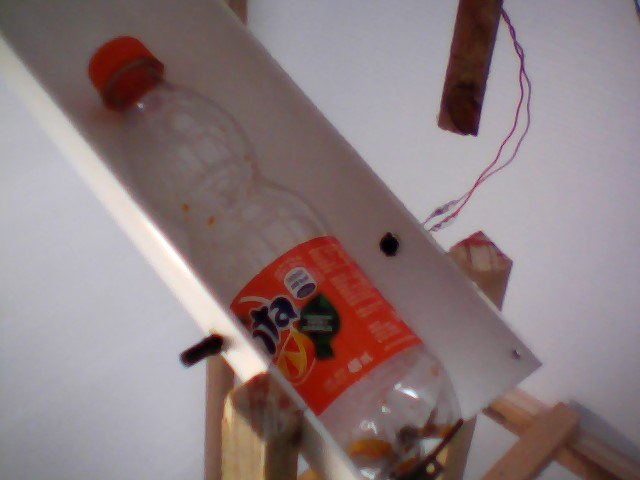plastico: (82, 31, 471, 480)
